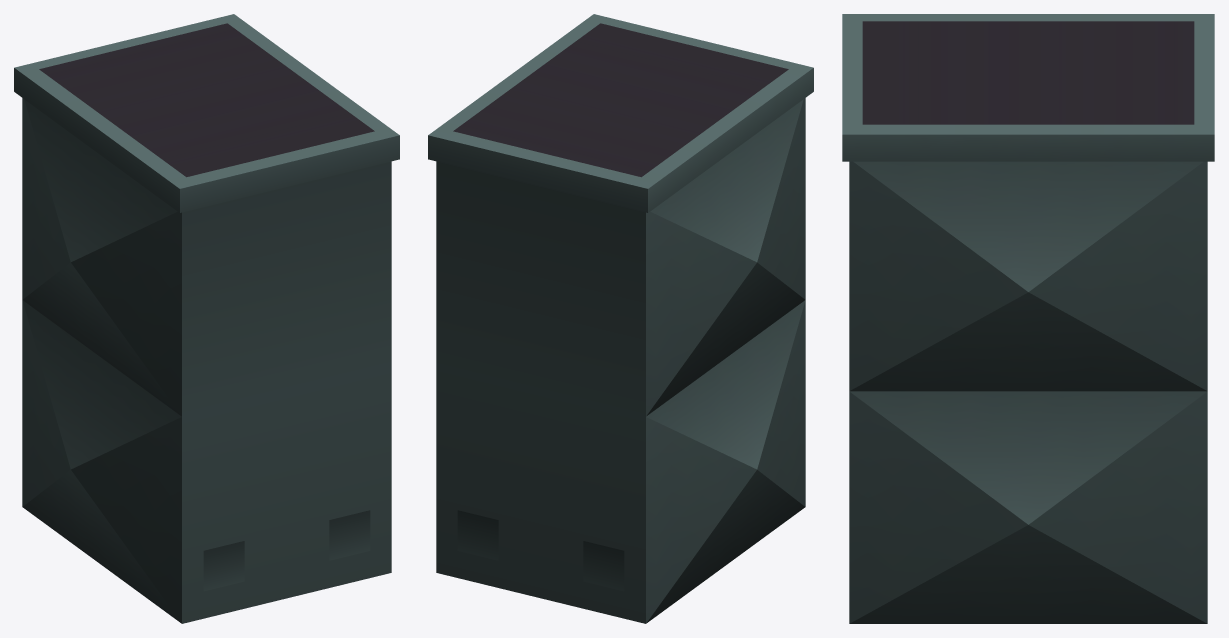
The model's file is Air_Vent_3A.fbx.
The picture shows the model from 3 angles, left to right: view 1: azimuth 30°, elevation 25°; view 2: azimuth 150°, elevation 25°; view 3: azimuth 270°, elevation 25°; orthographic projection. The views are drawn at different scales.
Visible parts, largest first — view 1: Air_Vent_3A; view 2: Air_Vent_3A; view 3: Air_Vent_3A.
Boxes of the visible parts, <box> form: Air_Vent_3A: <box>14,14,399,623</box>; Air_Vent_3A: <box>428,14,813,623</box>; Air_Vent_3A: <box>842,14,1214,623</box>.
Size of the model in its own units: 1.3 by 2.01 by 1.37.
